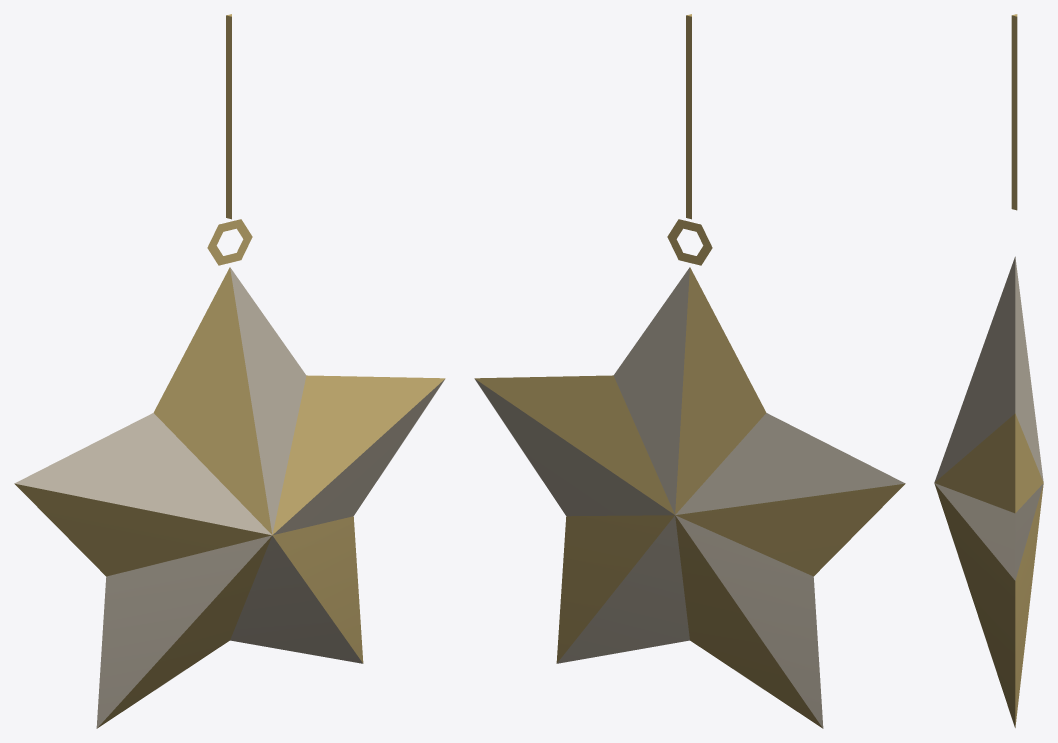
The model's file is hanging-star.glb.
3 renders of one model, left to right at view 1: azimuth 30°, elevation 25°; view 2: azimuth 150°, elevation 25°; view 3: azimuth 270°, elevation 25°, orthographic. The views are drawn at different scales.
Parts seen in each view (by area): view 1: root_mesh; view 2: root_mesh; view 3: root_mesh.
Part boxes in pixels (box(x1,y1,x2,y2)): root_mesh: box(14, 14, 445, 728); root_mesh: box(474, 14, 905, 728); root_mesh: box(934, 14, 1043, 727).
Size of the model in its own units: 0.5306 by 0.8 by 0.1218.
